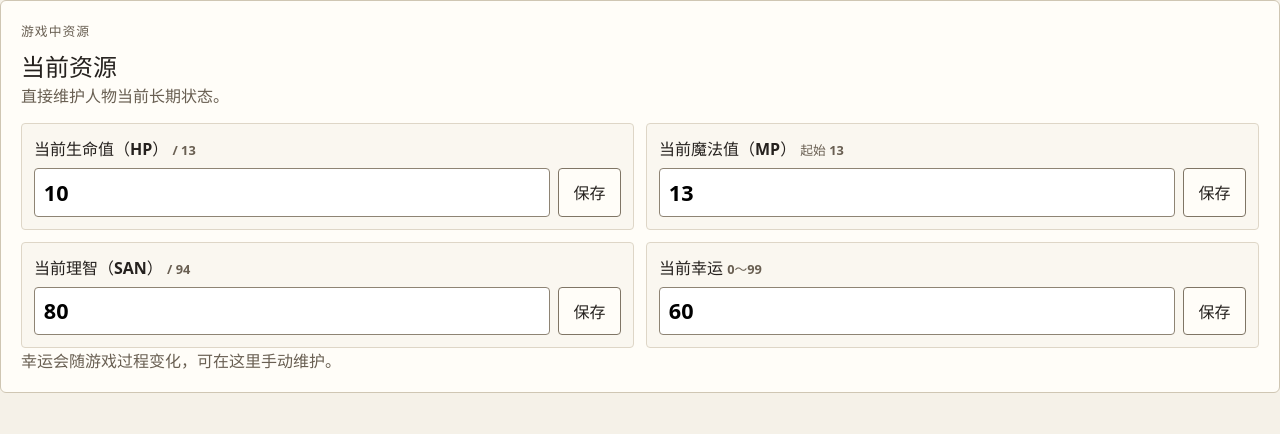
Test: Final Sheet resource workspace rendered interactions › 保存 HP 与高于 Initial MP 的 Current MP，并拒绝超过 Maximum HP
Replace the text in the number field labelled "当前生命值（HP） / 13" with "5" at (292, 192), box [34, 168, 550, 217]
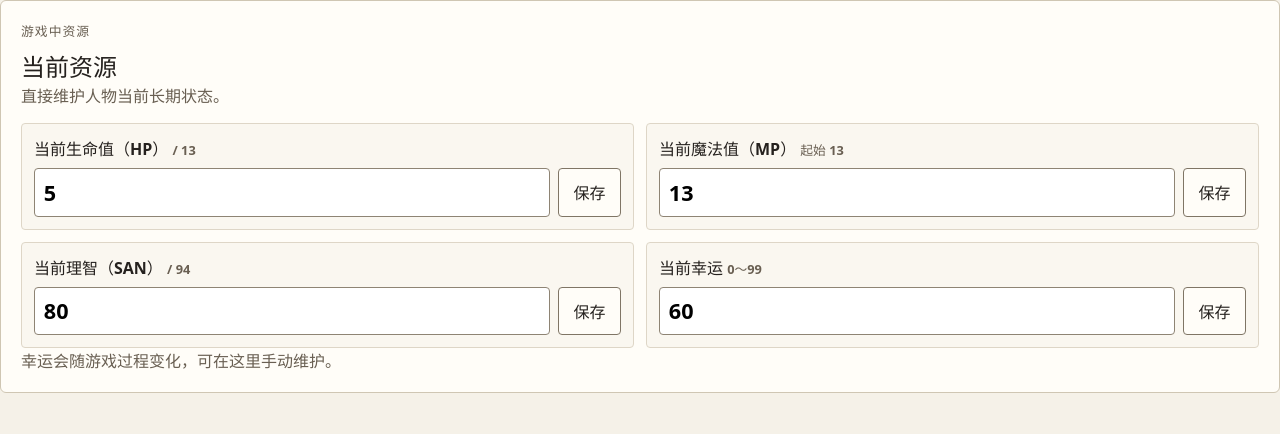
Click the 1st button "保存".
click(590, 192)  # box [558, 168, 621, 217]
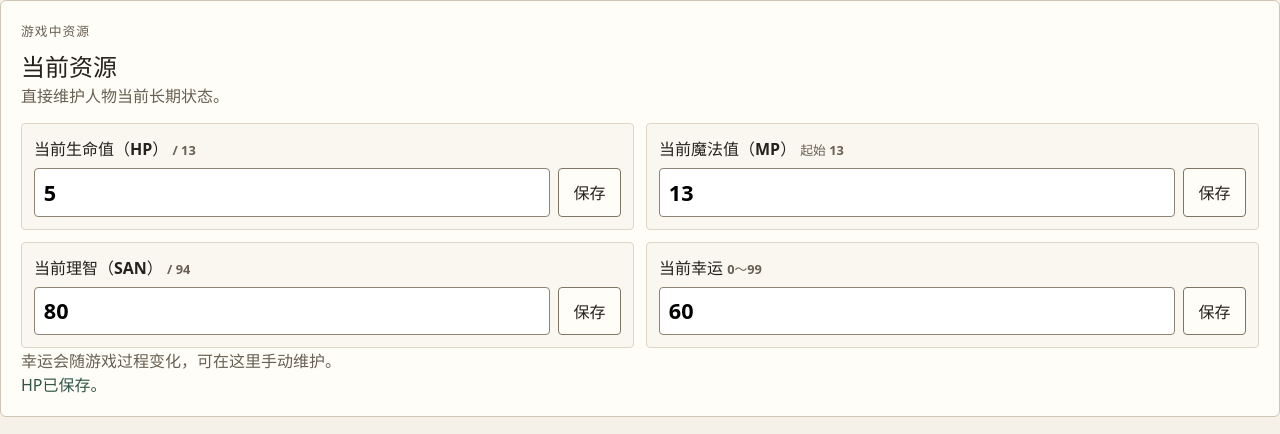
Replace the text in the number field labelled "当前魔法值（MP） 起始 13" with "25" at (917, 192), box [659, 168, 1175, 217]
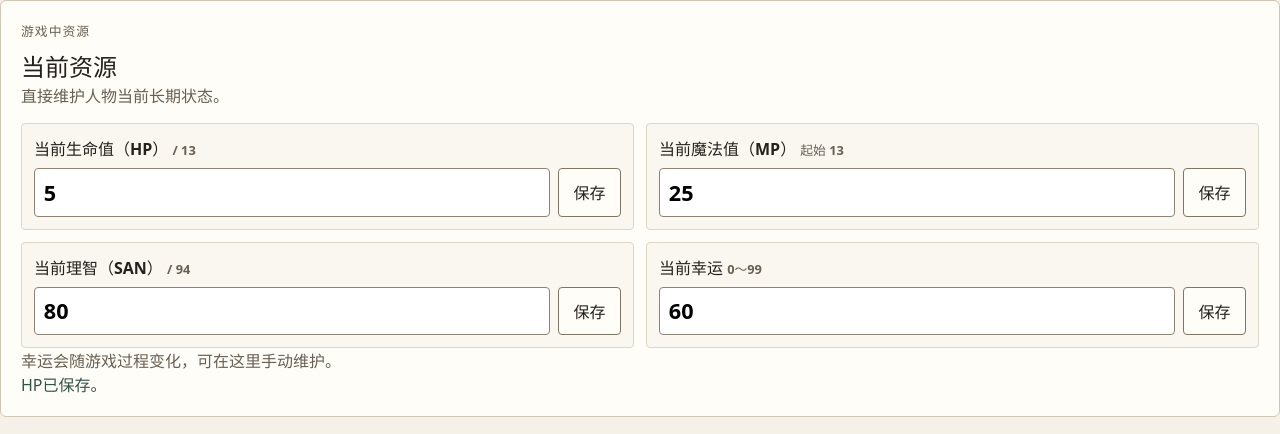
Click the 2nd button "保存".
click(1215, 192)  # box [1183, 168, 1246, 217]
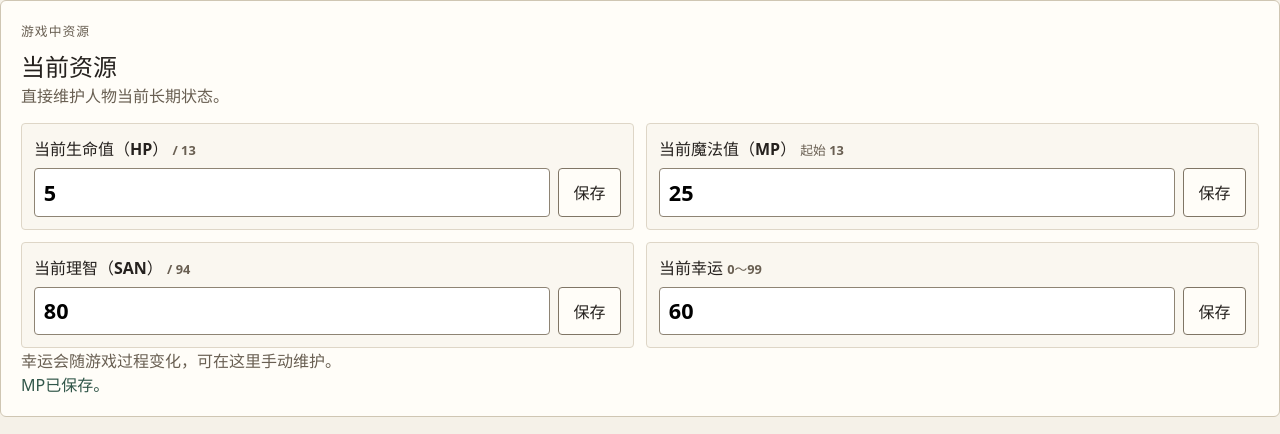
Expected: the element with class "resource-editor" shows "起始 13", [800, 141, 844, 159]
Replace the text in the number field labelled "当前生命值（HP） / 13" with "14" at (292, 192), box [34, 168, 550, 217]
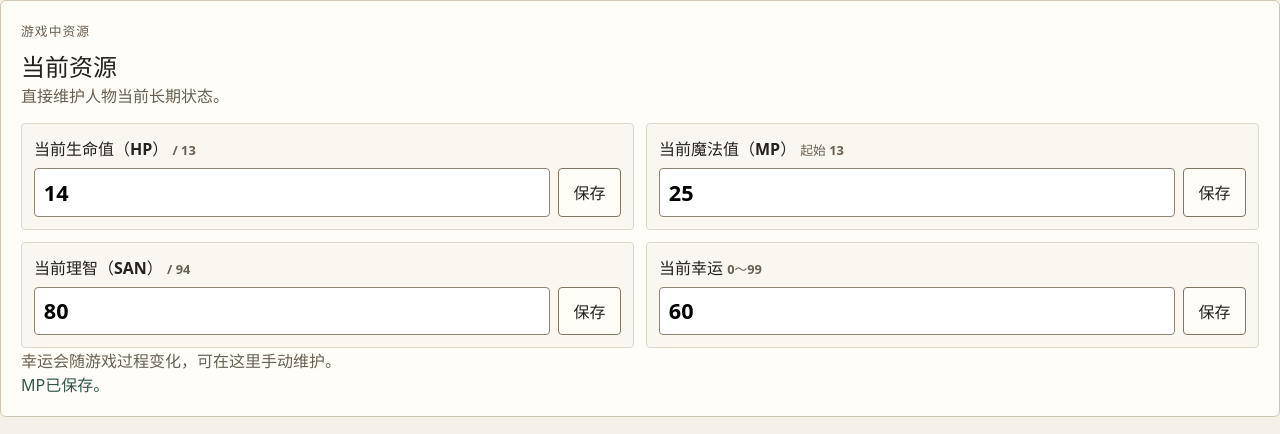
Click the 1st button "保存".
click(590, 192)  # box [558, 168, 621, 217]
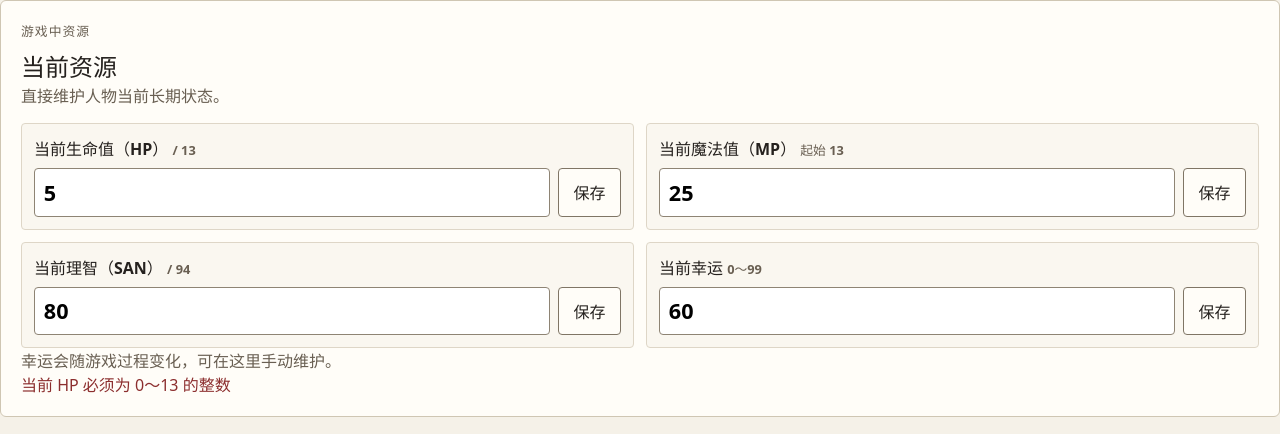
Result: the message "当前 HP 必须为 0～13 的整数" is shown at [21, 374, 231, 396]
